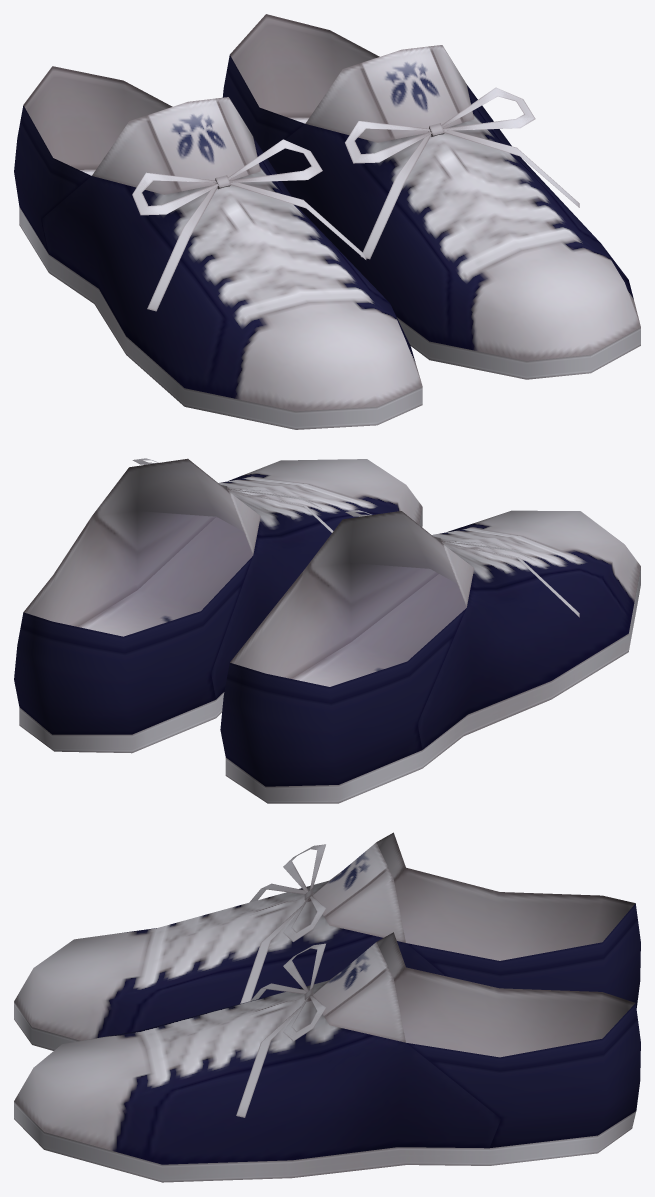
File: set_sneakers_02_a.fbx
3 views of the same model, one above another, from view 1: azimuth 30°, elevation 25°; view 2: azimuth 150°, elevation 25°; view 3: azimuth 270°, elevation 25° (orthographic). The views are drawn at different scales.
Parts seen in each view (by area): view 1: sneakers_02_a_R, sneakers_02_a_L; view 2: sneakers_02_a_R, sneakers_02_a_L; view 3: sneakers_02_a_L, sneakers_02_a_R.
Part boxes in pixels (x1,y1,x2,y2): sneakers_02_a_R: (14,66,422,429); sneakers_02_a_L: (222,14,640,379); sneakers_02_a_R: (220,510,640,803); sneakers_02_a_L: (14,458,422,753); sneakers_02_a_L: (14,932,640,1182); sneakers_02_a_R: (14,832,640,1050).
Bounding box in the file's own units: 19.19 × 8.05 × 24.51.
